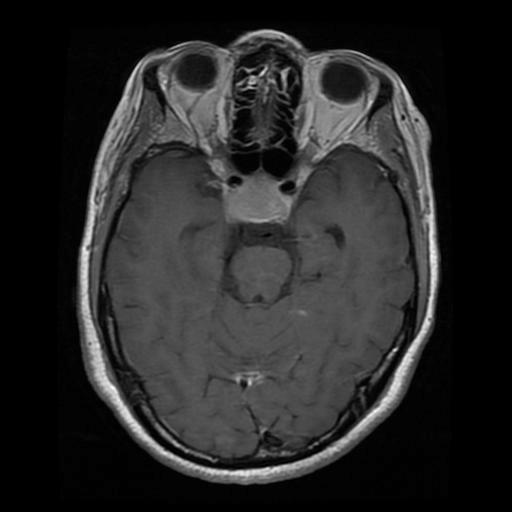Tumour-Pituitary: (217, 169, 306, 227)
